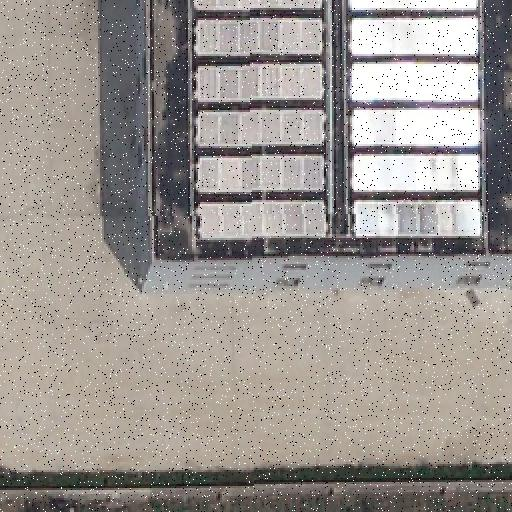solar-panel: (347, 15, 477, 57), (351, 108, 481, 148), (347, 62, 477, 102), (196, 62, 324, 102), (195, 157, 325, 195), (352, 201, 480, 239), (350, 153, 478, 191), (196, 17, 324, 55), (198, 202, 326, 238), (197, 110, 323, 146), (350, 0, 478, 8), (196, 0, 324, 8)
